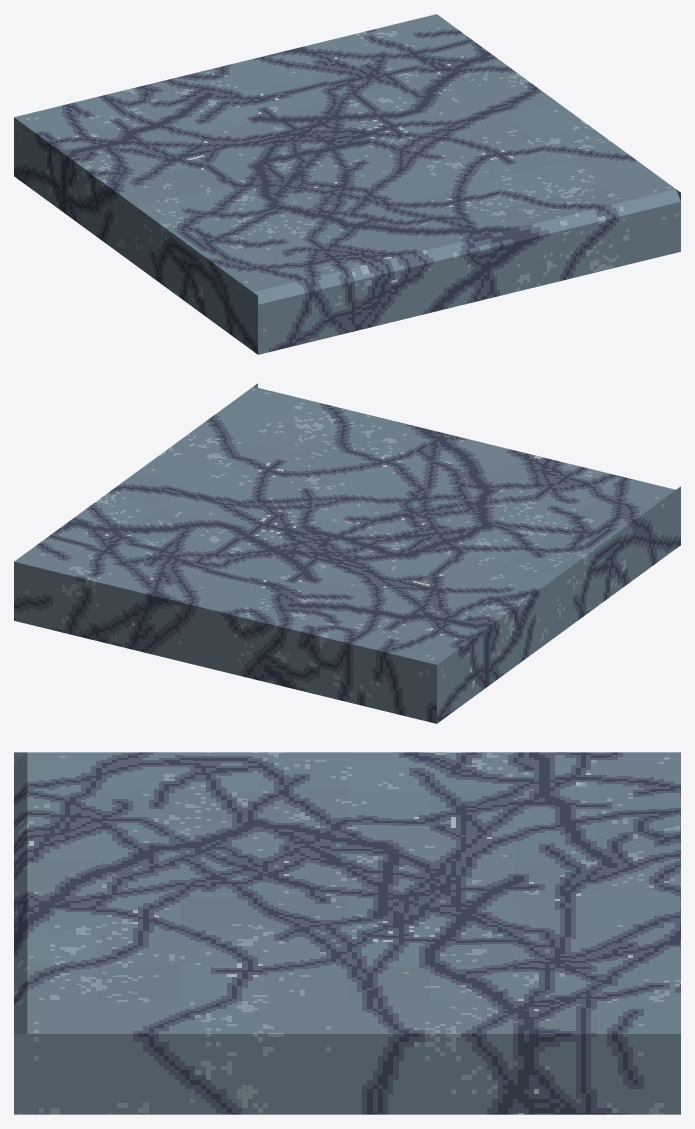
Rendered from TER-02_Losa_recta_a.gltf.
3 views of the same model, one above another, from view 1: azimuth 30°, elevation 25°; view 2: azimuth 150°, elevation 25°; view 3: azimuth 270°, elevation 25° (orthographic). The views are drawn at different scales.
Parts seen in each view (by area): view 1: TER-02_Losa_recta_a; view 2: TER-02_Losa_recta_a; view 3: TER-02_Losa_recta_a.
Part boxes in pixels (x1,y1,x2,y2): TER-02_Losa_recta_a: (14, 14, 680, 354); TER-02_Losa_recta_a: (14, 383, 680, 723); TER-02_Losa_recta_a: (14, 752, 680, 1114).
Size of the model in its own units: 3 by 0.4 by 3.
Materials: 1 (1 with a texture image).
